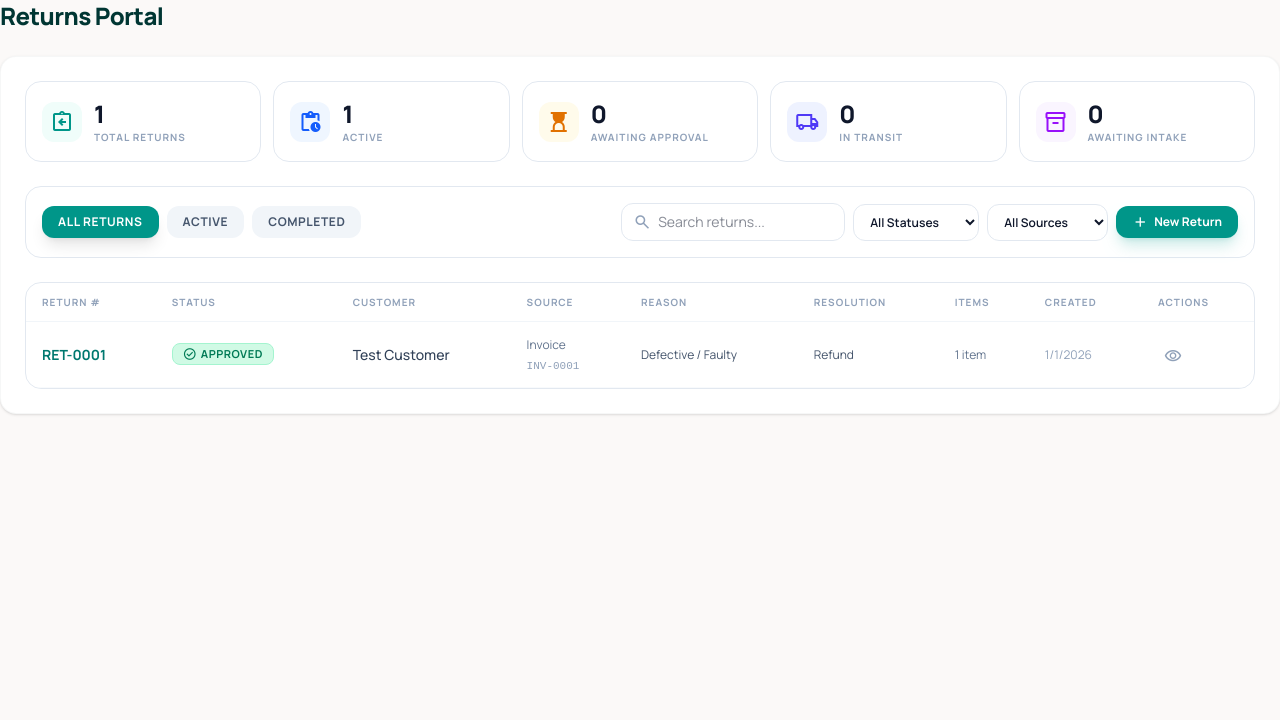
ReturnsPortal — provider label URL containment › never leaks the provider URL through the label-delivery modal
This screenshot has width=1280, height=720.
Click the text "RET-0001": [74, 354] box [42, 345, 106, 364]
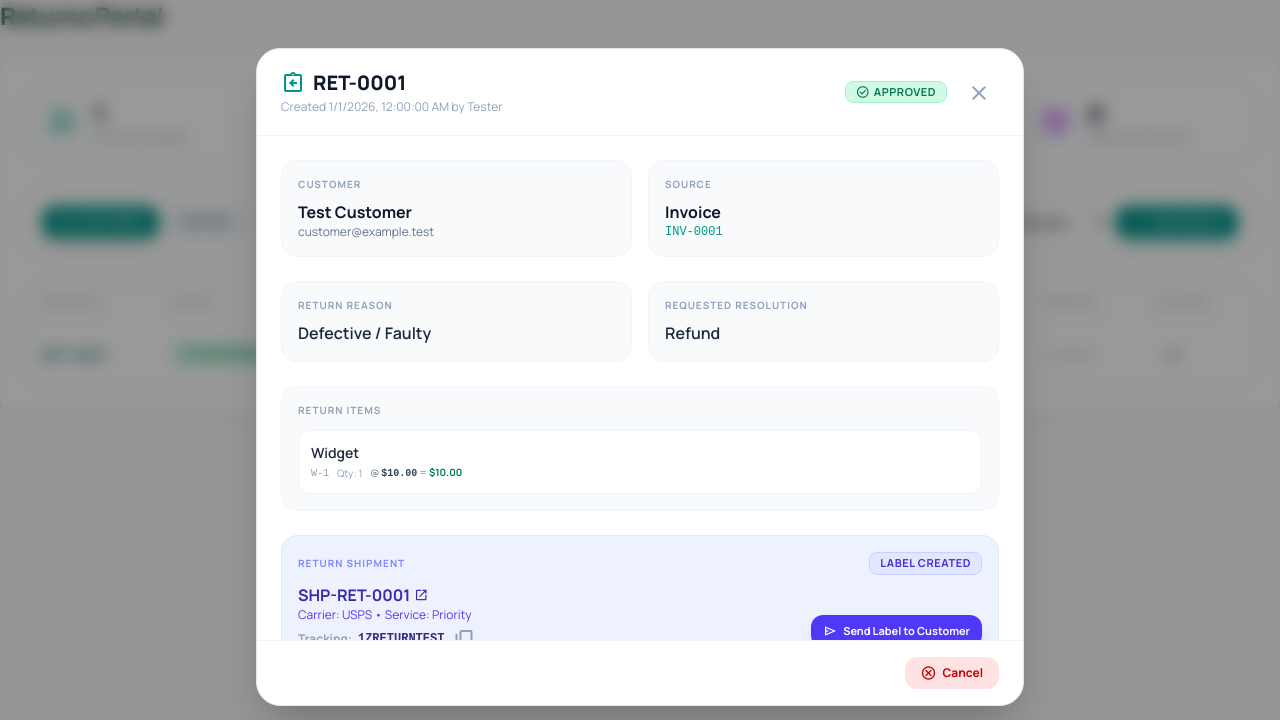
Expected: the heading "Return Shipment" is shown, [298, 556, 405, 571]
Click the button "Send Label to Customer": [897, 631] box [811, 615, 982, 647]
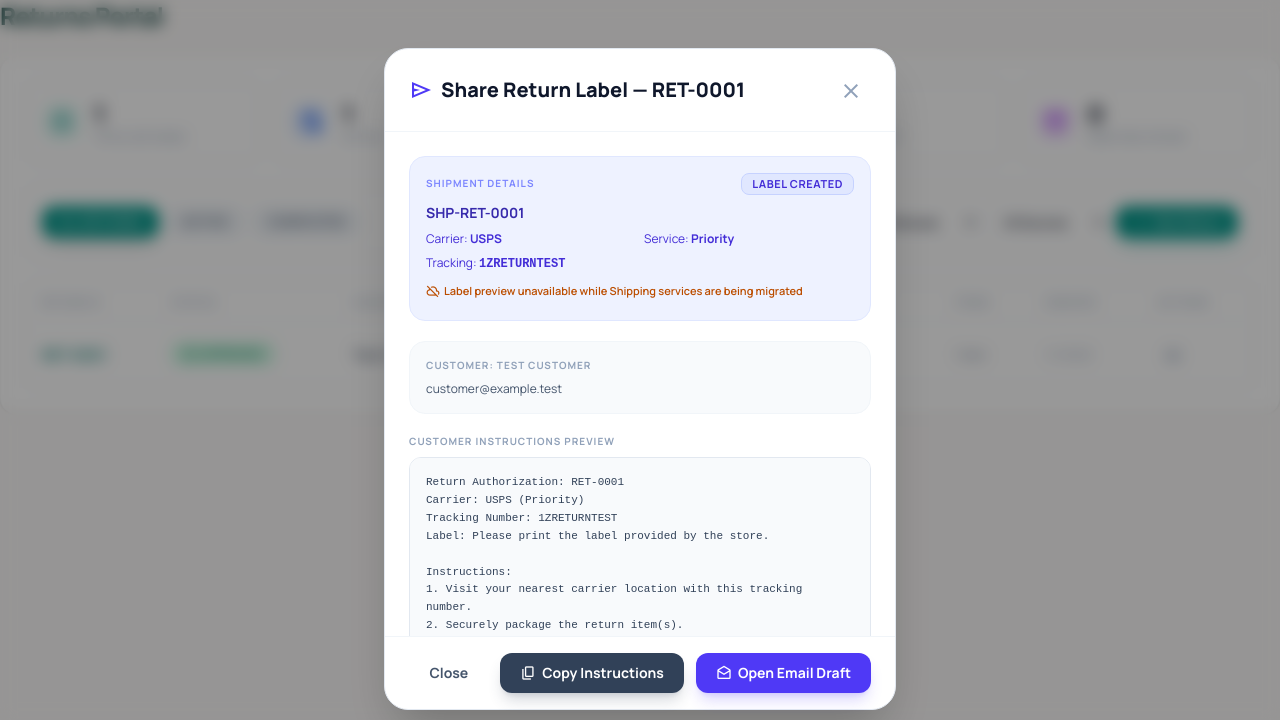
Expected: the heading "Share Return Label — RET-0001" is shown, [409, 76, 745, 104]
Expected: the message "Label preview unavailable while Shipping services are being migrated" is shown, [426, 283, 803, 299]
